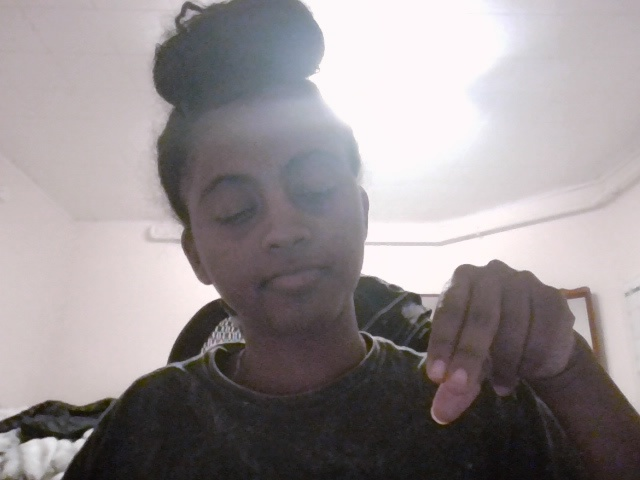No: (421, 253, 592, 434)
